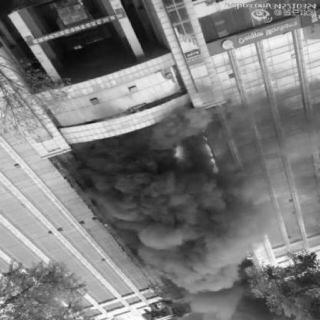Fire: (199, 134, 220, 178)
Smoke: (83, 128, 268, 320)
